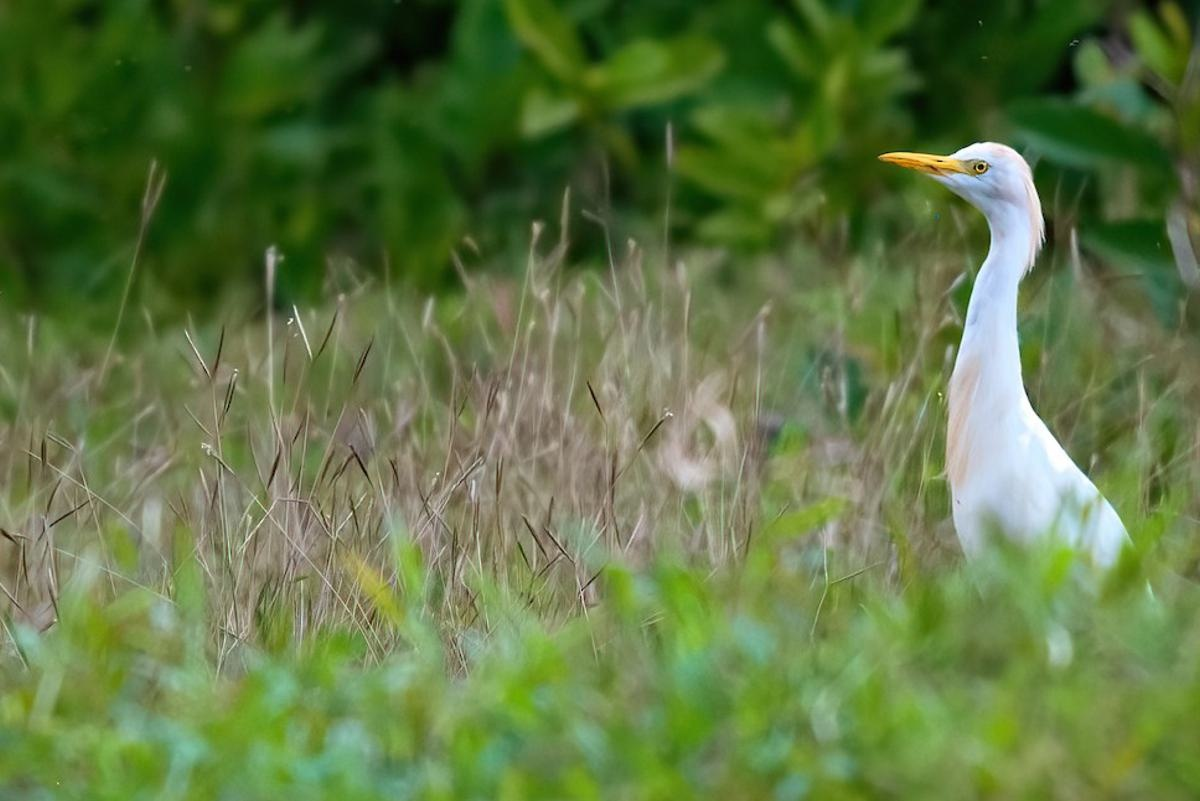egret: (861, 103, 1161, 637)
